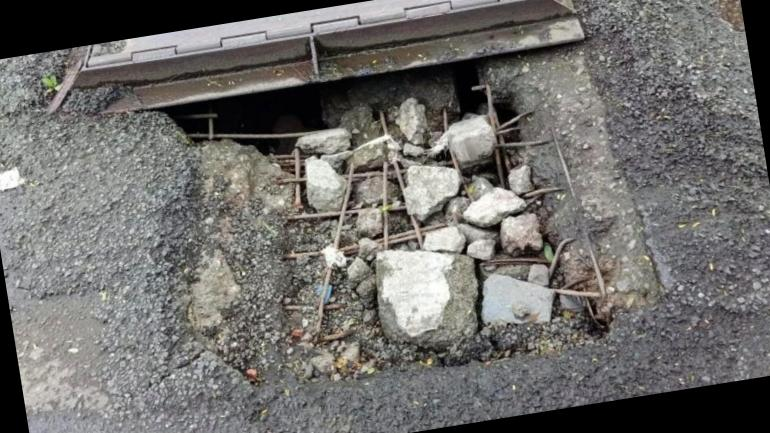pothole: (67, 0, 721, 433)
